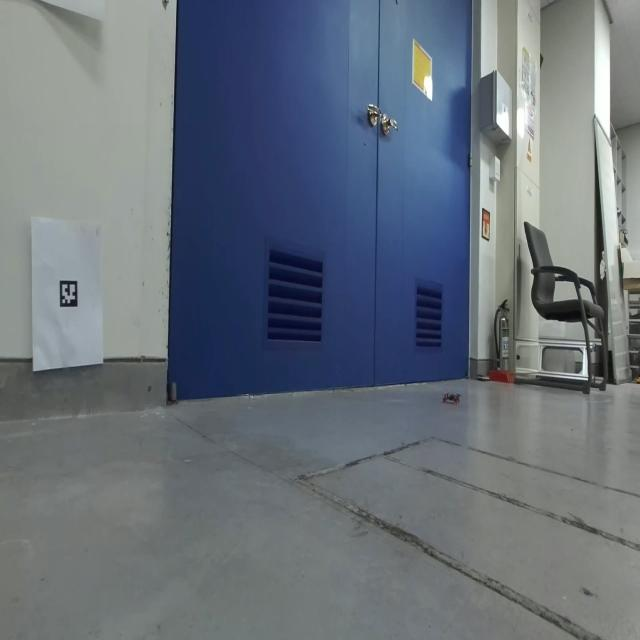crazyflie: (441, 386, 464, 410)
